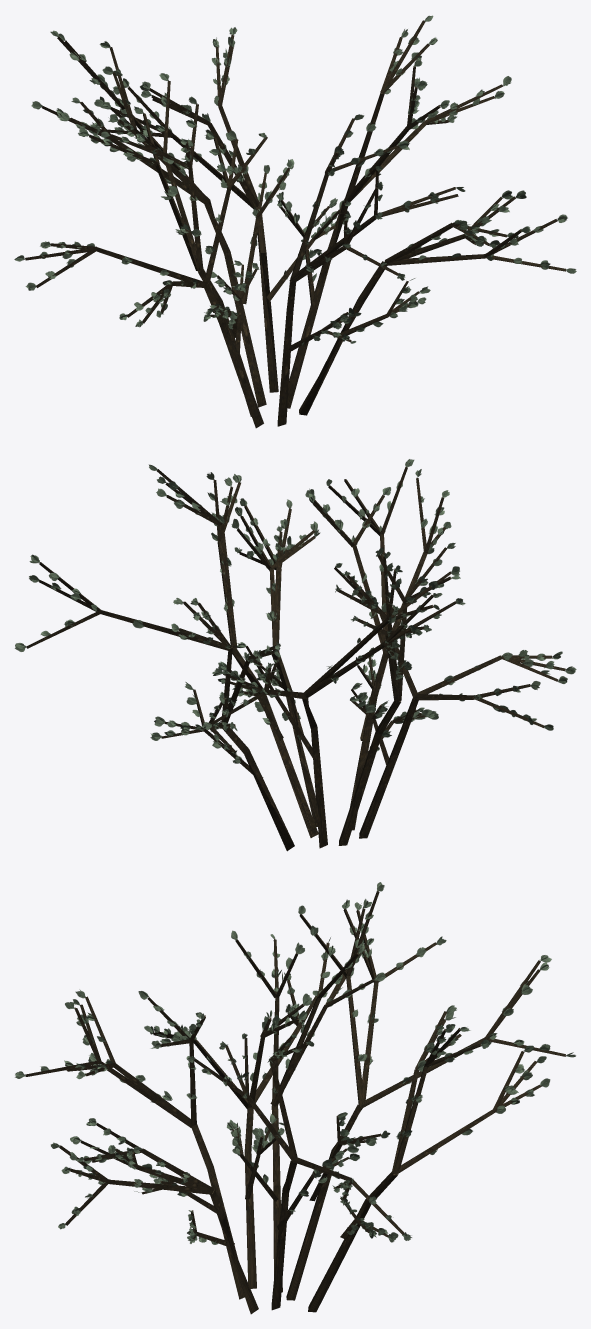
Rendered from alder_thicket_v02_LOD1.glb.
3 views of the same model, one above another, from view 1: azimuth 30°, elevation 25°; view 2: azimuth 150°, elevation 25°; view 3: azimuth 270°, elevation 25° (orthographic). The views are drawn at different scales.
Parts seen in each view (by area): view 1: alder_thicket_v02_LOD1; view 2: alder_thicket_v02_LOD1; view 3: alder_thicket_v02_LOD1.
Part boxes in pixels (x1,y1,x2,y2): alder_thicket_v02_LOD1: (14, 15, 576, 428); alder_thicket_v02_LOD1: (15, 459, 576, 851); alder_thicket_v02_LOD1: (15, 882, 575, 1314).
Size of the model in its own units: 8.92 by 6.04 by 8.46.
2 materials, 2 textured.
